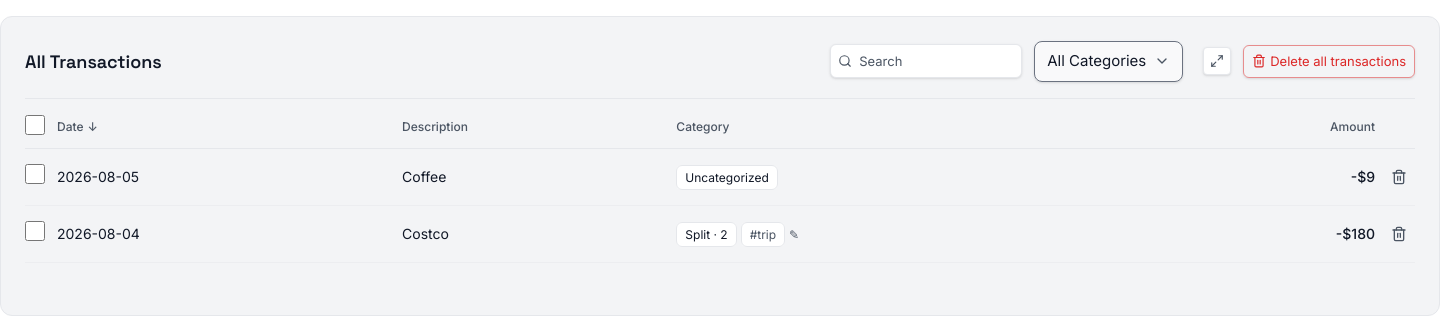
it: TransactionListWidget splits and tags › finds a transaction by tag
Type "trip" into the search field named "Search transactions". click: (926,61)
box: [830,44,1022,78]
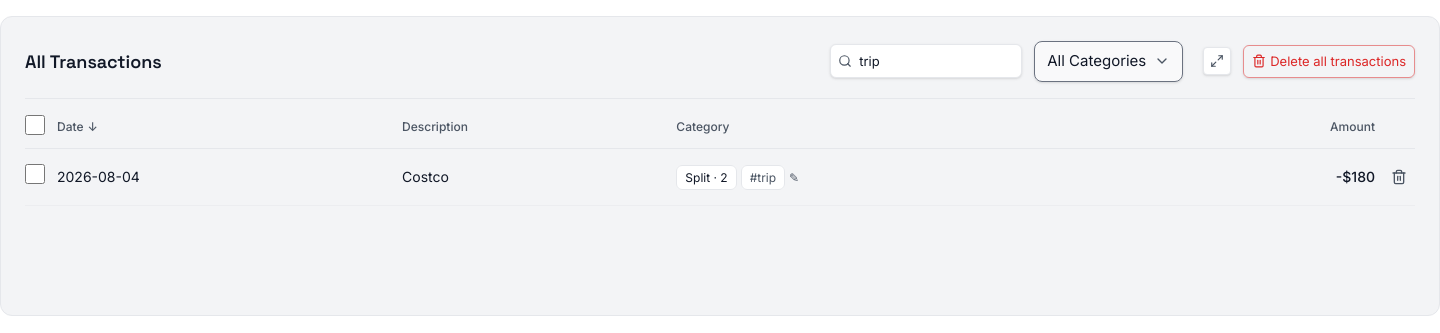
Check: the button "Costco" is shown, box [402,166,449,187]
Check: the button "Coffee" is gone
